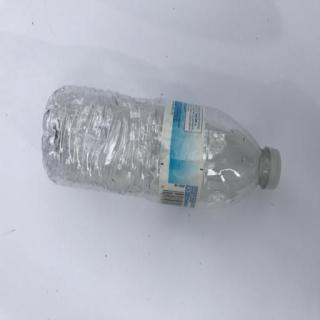Plastic-bottle: (42, 84, 284, 215)
